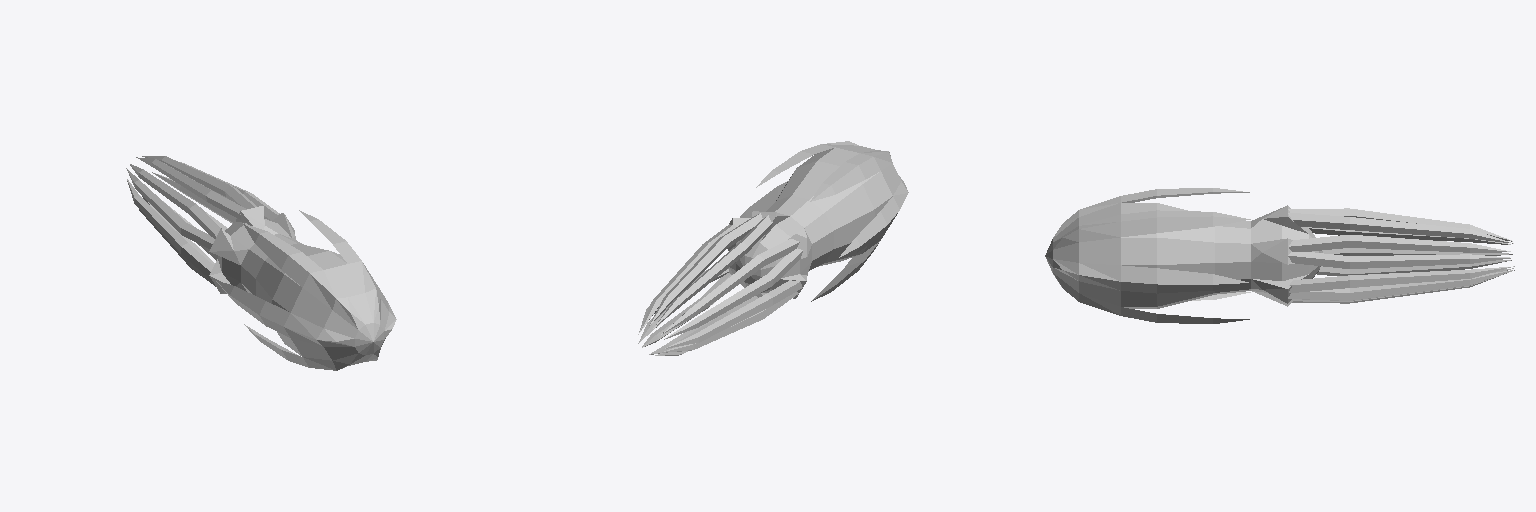
Rendered from drone_weapon.obj.
The picture shows the model from 3 angles: view 1: azimuth 30°, elevation 25°; view 2: azimuth 150°, elevation 25°; view 3: azimuth 270°, elevation 25°; orthographic projection.
Parts seen in each view (by area): view 1: drone_ref; view 2: drone_ref; view 3: drone_ref.
Part boxes in pixels (left/top/right/bottom): drone_ref: left=126, top=156, right=396, bottom=370; drone_ref: left=638, top=141, right=908, bottom=355; drone_ref: left=1045, top=188, right=1514, bottom=323.
Bounding box in the file's own units: 0.3678 × 0.3199 × 1.26.